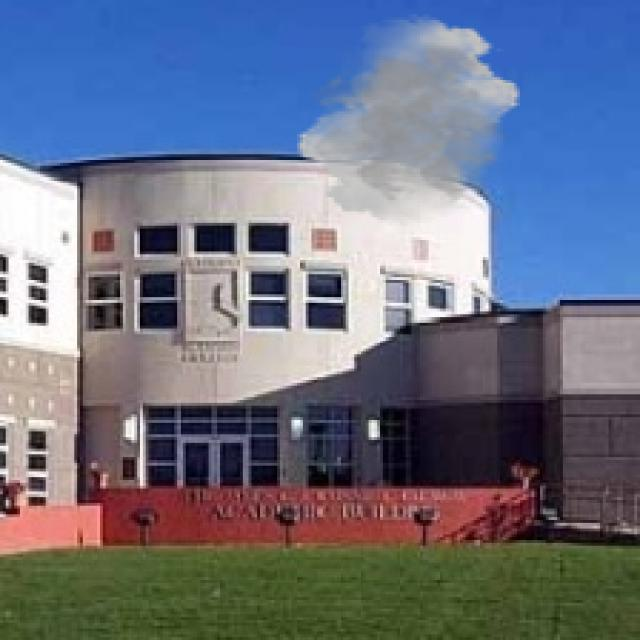smoke: (294, 14, 523, 226)
